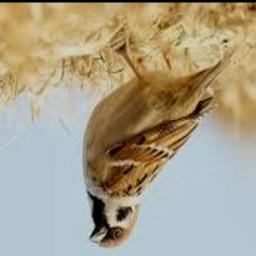Sparrow: (84, 43, 239, 247)
